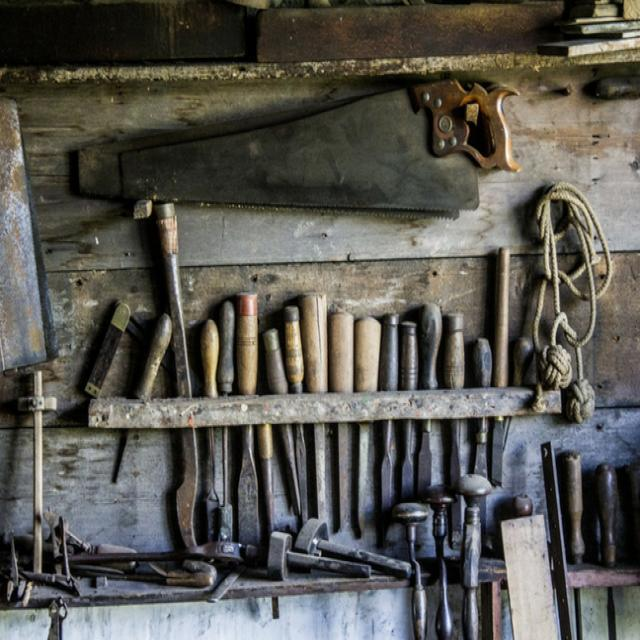hammer: (292, 514, 410, 584), (262, 525, 374, 590)
